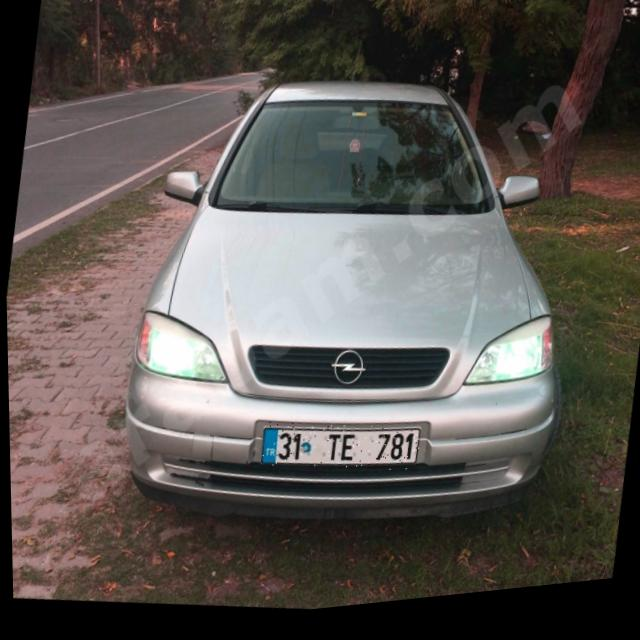license_plate: (258, 415, 420, 492)
